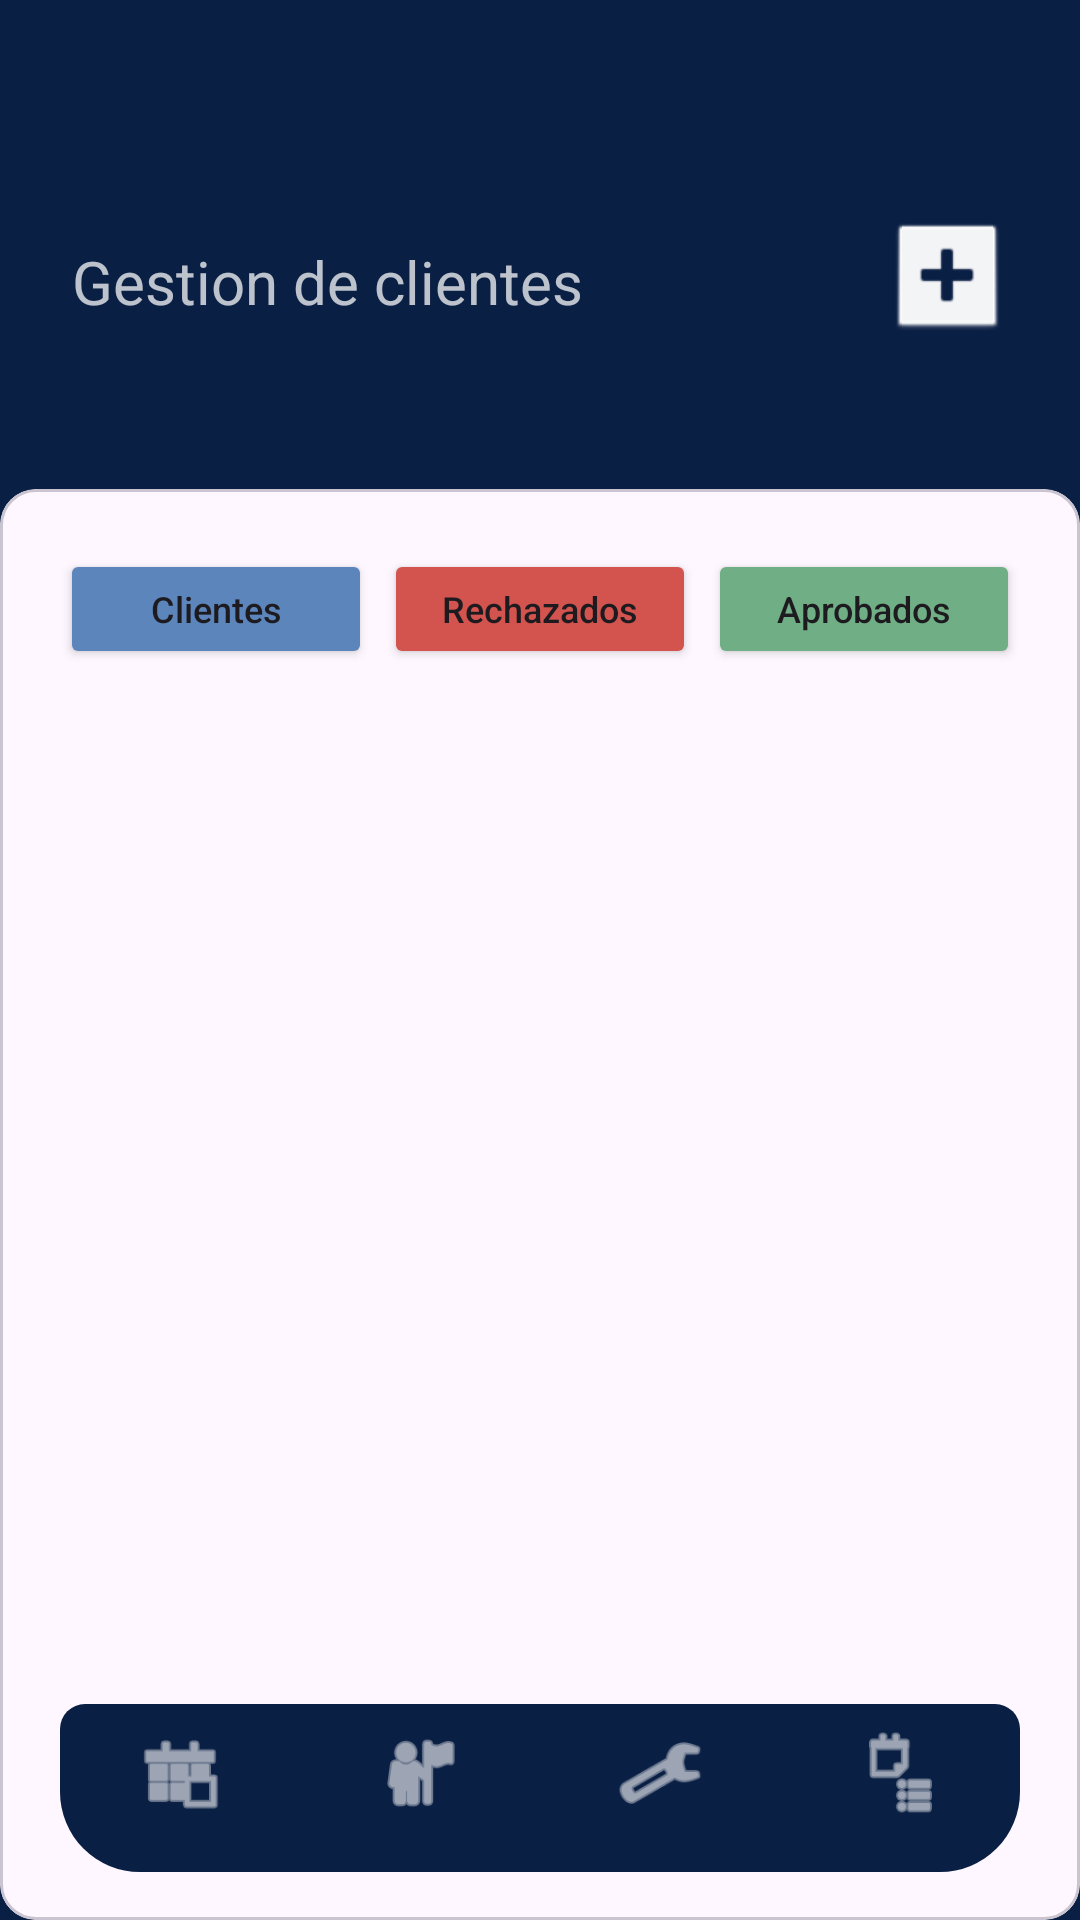

Where icons sit on this 1080 x 1920 app screen, as (x1, y1, x2, y2):
add: (897, 225, 998, 328)
